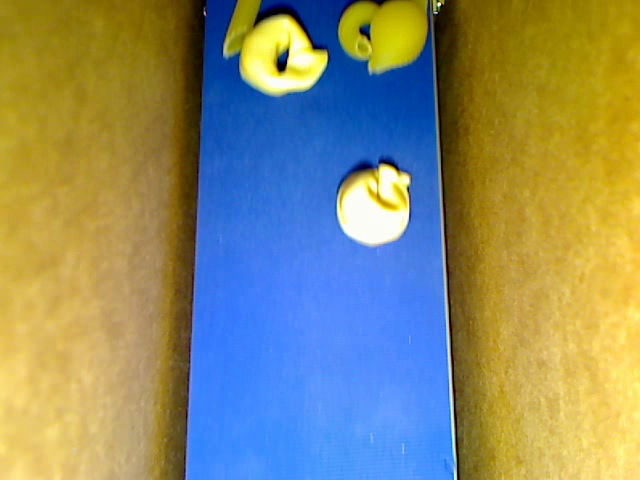elbow: (337, 1, 378, 62)
penne: (221, 1, 262, 59)
shell: (367, 1, 427, 77)
tortellini: (238, 14, 327, 97), (335, 161, 411, 247)
